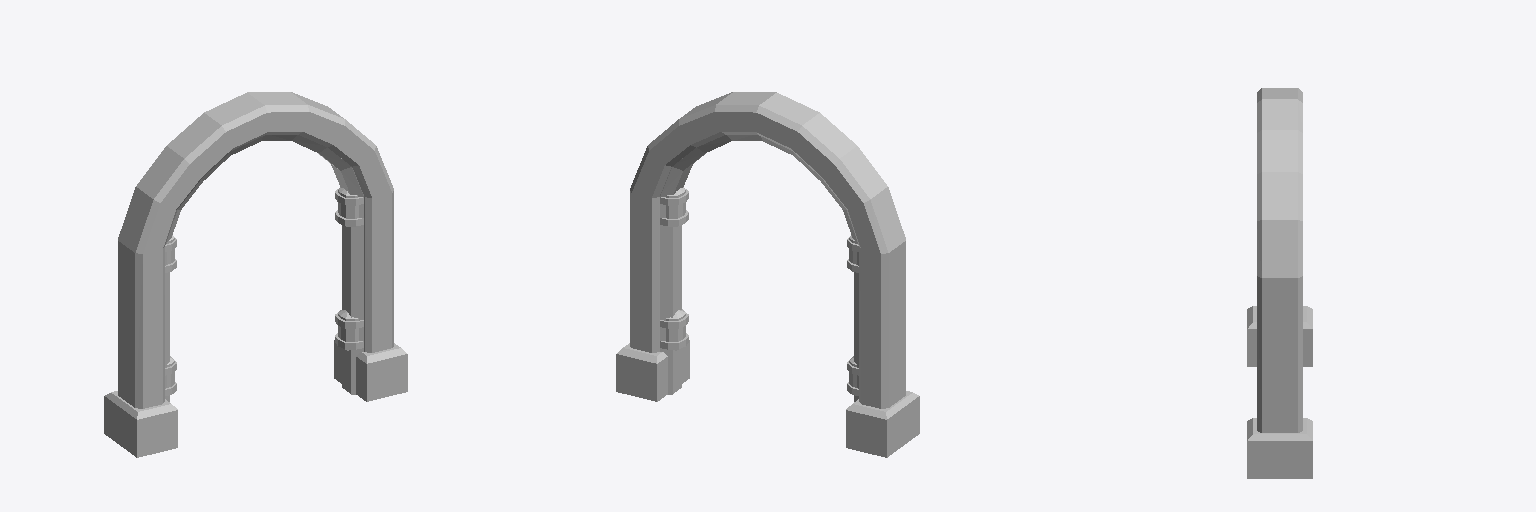
The model's file is ghost-train-door-frame.obj.
3 views of the same model, side by side, from view 1: azimuth 30°, elevation 25°; view 2: azimuth 150°, elevation 25°; view 3: azimuth 270°, elevation 25° (orthographic).
Visible parts, largest first — view 1: frame_Untitled.002; view 2: frame_Untitled.002; view 3: frame_Untitled.002.
Boxes of the visible parts, x1,y1,x2,y2 form: frame_Untitled.002: [104, 92, 407, 457]; frame_Untitled.002: [616, 92, 919, 457]; frame_Untitled.002: [1247, 88, 1312, 478].
Bounding box in the file's own units: 1.77 × 1.96 × 0.3711.